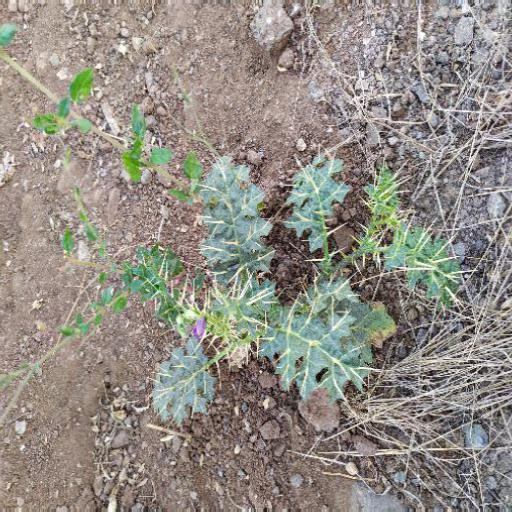weed: (53, 111, 480, 430)
